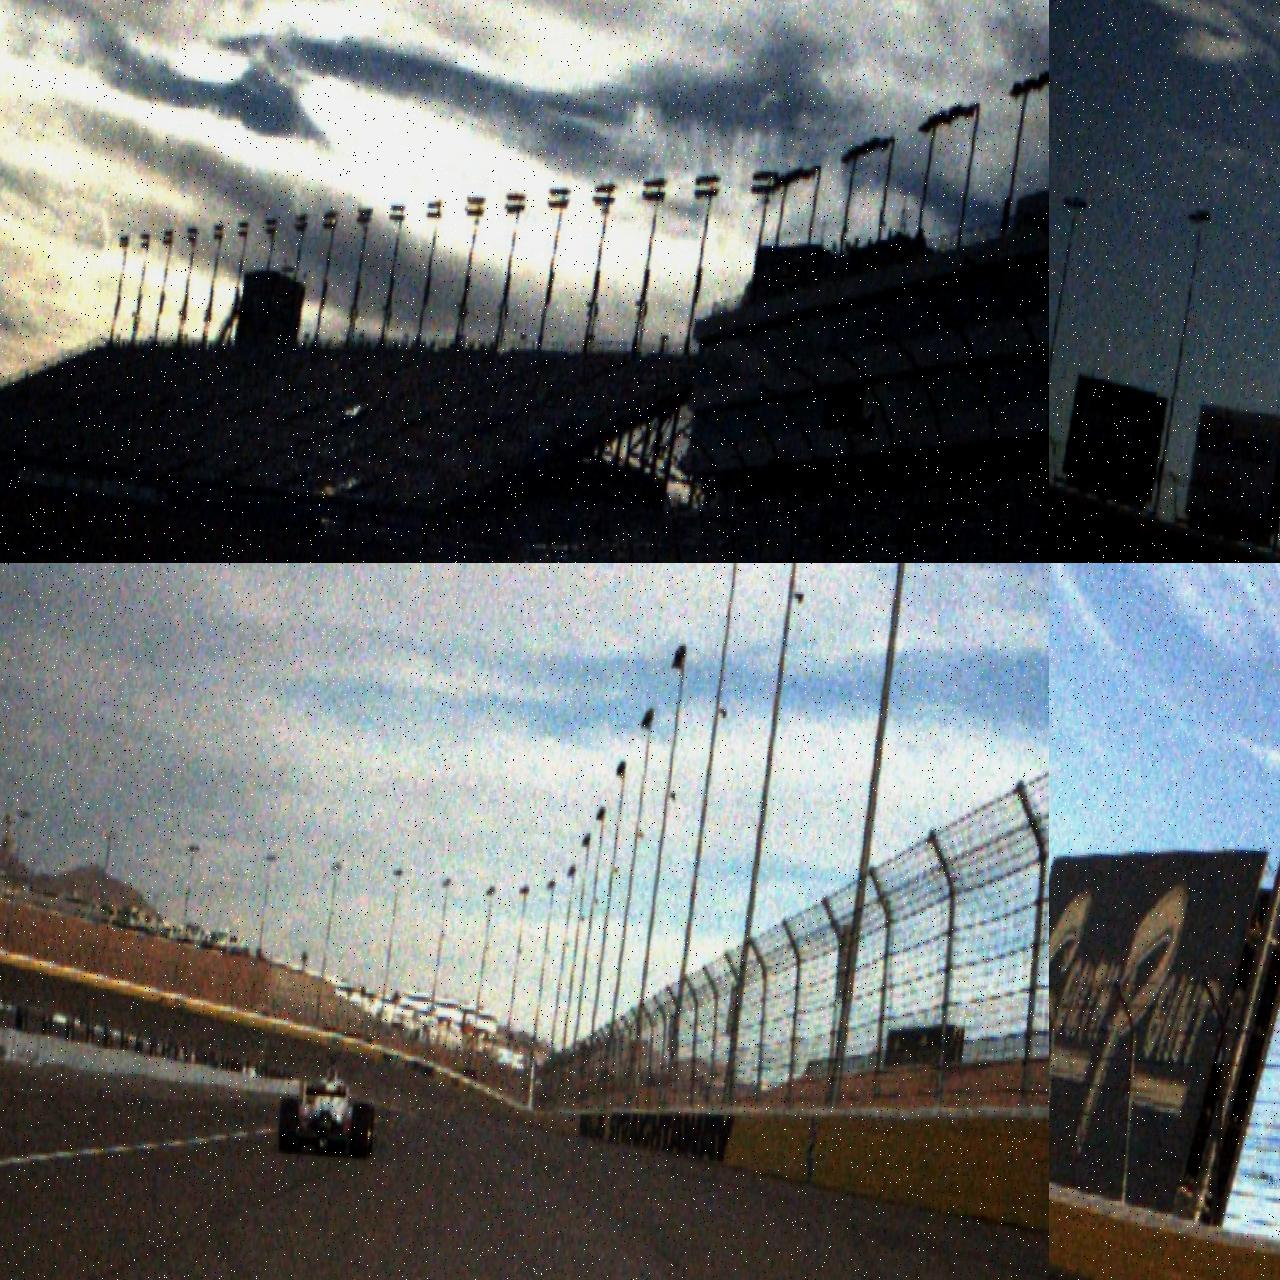AV: (278, 1050, 380, 1160)
Wheel: (278, 1098, 300, 1155), (350, 1103, 373, 1159)
